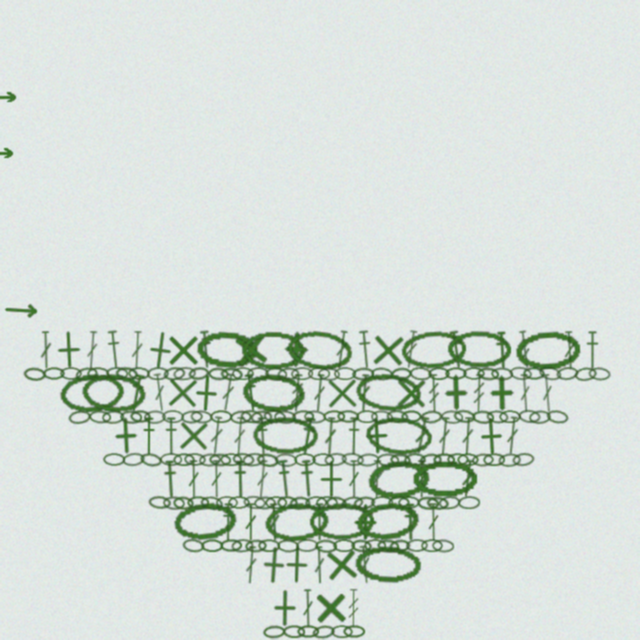chain: (285, 327, 355, 373), (354, 499, 422, 544), (364, 414, 433, 458), (172, 499, 239, 544), (263, 500, 331, 543), (80, 371, 148, 414), (354, 371, 422, 414), (366, 457, 432, 501), (58, 371, 125, 414), (241, 371, 307, 414), (400, 329, 467, 371), (514, 329, 581, 371), (354, 544, 421, 585), (195, 329, 260, 371), (252, 416, 318, 455), (309, 502, 374, 541), (447, 330, 511, 369), (412, 460, 477, 498), (241, 331, 306, 369), (538, 365, 562, 382), (139, 452, 163, 468), (312, 624, 335, 640), (200, 495, 223, 511), (341, 495, 364, 511), (353, 495, 376, 511), (256, 452, 279, 468), (68, 409, 91, 425), (546, 409, 569, 425), (75, 366, 98, 382), (574, 366, 597, 382), (182, 538, 205, 553), (231, 538, 254, 553), (148, 495, 171, 510), (243, 495, 266, 510), (438, 495, 461, 510), (122, 452, 145, 467), (232, 452, 255, 467), (242, 452, 265, 467), (324, 452, 347, 467), (341, 452, 364, 467), (512, 452, 535, 467), (240, 409, 263, 424), (263, 409, 286, 424), (386, 409, 409, 424), (453, 409, 476, 424), (518, 409, 541, 424), (115, 366, 138, 381), (163, 366, 186, 381), (173, 366, 196, 381), (409, 366, 432, 381), (509, 366, 532, 381), (556, 366, 579, 381), (188, 366, 210, 381), (426, 496, 449, 510), (419, 453, 442, 467), (498, 453, 521, 467), (190, 410, 213, 424), (250, 410, 273, 424), (420, 410, 443, 424), (486, 410, 509, 424), (23, 367, 46, 381), (220, 367, 243, 381), (277, 367, 300, 381), (588, 367, 611, 381), (263, 625, 285, 639), (245, 539, 267, 553), (277, 539, 299, 553), (315, 539, 337, 553), (377, 539, 399, 553), (389, 539, 411, 553), (432, 539, 454, 553), (163, 496, 185, 510), (254, 496, 276, 510), (289, 496, 311, 510), (417, 496, 439, 510), (199, 453, 221, 467), (209, 453, 231, 467), (275, 453, 297, 467), (357, 453, 379, 467), (377, 453, 399, 467), (472, 453, 494, 467), (89, 410, 111, 424), (102, 410, 124, 424), (120, 410, 142, 424), (144, 410, 166, 424), (181, 410, 203, 424), (230, 410, 252, 424), (274, 410, 296, 424), (304, 410, 326, 424), (371, 410, 393, 424), (441, 410, 463, 424), (472, 410, 494, 424), (529, 410, 551, 424), (265, 367, 287, 381), (318, 367, 340, 381), (352, 367, 374, 381), (371, 367, 393, 381), (477, 367, 499, 381), (491, 367, 513, 381), (351, 539, 372, 553), (173, 496, 194, 510), (326, 496, 347, 510), (390, 453, 411, 467), (208, 367, 229, 381), (391, 367, 412, 381), (283, 625, 305, 638), (297, 625, 319, 638), (331, 625, 353, 638), (343, 625, 365, 638), (201, 539, 223, 552), (220, 539, 242, 552), (258, 539, 280, 552), (296, 539, 318, 552), (333, 539, 355, 552), (364, 539, 386, 552), (406, 539, 428, 552), (421, 539, 443, 552), (187, 496, 209, 509), (216, 496, 238, 509), (228, 496, 250, 509), (265, 496, 287, 509), (305, 496, 327, 509), (316, 496, 338, 509), (371, 496, 393, 509), (388, 496, 410, 509), (398, 496, 420, 509), (458, 496, 480, 509), (103, 453, 125, 466), (160, 453, 182, 466), (173, 453, 195, 466), (184, 453, 206, 466), (220, 453, 242, 466), (294, 453, 316, 466), (312, 453, 334, 466), (404, 453, 426, 466), (433, 453, 455, 466), (447, 453, 469, 466), (457, 453, 479, 466), (483, 453, 505, 466), (162, 410, 184, 423), (210, 410, 232, 423), (292, 410, 314, 423), (323, 410, 345, 423), (337, 410, 359, 423), (356, 410, 378, 423), (499, 410, 521, 423), (43, 367, 65, 380), (60, 367, 82, 380), (87, 367, 109, 380), (106, 367, 128, 380), (128, 367, 150, 380), (147, 367, 169, 380), (232, 367, 254, 380), (247, 367, 269, 380), (291, 367, 313, 380), (308, 367, 330, 380), (334, 367, 356, 380), (428, 367, 450, 380), (445, 367, 467, 380), (463, 367, 485, 380), (523, 367, 545, 380), (277, 496, 298, 509), (130, 410, 151, 423), (401, 410, 422, 423)
double: (412, 416, 432, 455), (219, 373, 237, 412), (402, 330, 420, 369), (208, 416, 225, 455), (151, 373, 168, 412), (333, 330, 350, 369), (357, 545, 373, 584), (460, 459, 476, 498), (505, 416, 520, 455), (255, 460, 270, 498), (232, 417, 247, 455), (323, 417, 338, 455), (437, 417, 452, 455), (460, 417, 475, 455), (312, 374, 327, 412), (357, 374, 372, 412), (540, 374, 555, 412), (562, 331, 577, 369), (244, 546, 258, 584), (267, 503, 281, 541), (370, 460, 384, 498), (518, 374, 532, 412), (39, 331, 53, 369), (85, 331, 99, 369), (130, 331, 144, 369), (313, 546, 326, 584), (244, 503, 257, 541), (427, 503, 440, 541), (187, 460, 200, 498), (210, 460, 223, 498), (415, 460, 428, 498), (302, 589, 314, 627), (348, 460, 360, 498)
half_double: (297, 416, 318, 456), (126, 373, 147, 413), (446, 330, 466, 369), (242, 373, 260, 412), (105, 330, 123, 369), (356, 330, 374, 369), (276, 459, 293, 498), (299, 459, 316, 498), (197, 330, 214, 369), (162, 460, 179, 498), (494, 331, 510, 369), (312, 503, 327, 541), (403, 503, 418, 541), (255, 417, 270, 455), (585, 331, 600, 369), (221, 503, 235, 541), (233, 460, 247, 498), (142, 417, 156, 455), (164, 417, 178, 455), (347, 417, 361, 455)
noise: (4, 302, 39, 318), (0, 92, 18, 102), (0, 148, 15, 158)
single: (229, 328, 272, 371), (139, 329, 181, 371), (321, 544, 362, 585), (254, 545, 294, 585), (471, 416, 511, 456), (186, 373, 226, 413), (368, 330, 408, 370), (311, 588, 350, 627), (277, 545, 316, 584), (106, 416, 145, 455), (174, 416, 213, 455), (357, 416, 396, 455), (163, 373, 202, 412), (436, 373, 475, 412), (49, 330, 88, 369), (277, 330, 316, 369), (266, 589, 304, 627), (346, 503, 384, 541), (312, 460, 350, 498), (323, 374, 361, 412), (392, 374, 430, 412), (483, 374, 521, 412), (164, 331, 202, 369)
treble: (517, 330, 533, 369), (289, 374, 305, 412), (427, 374, 441, 412), (472, 374, 486, 412), (347, 589, 360, 627)
